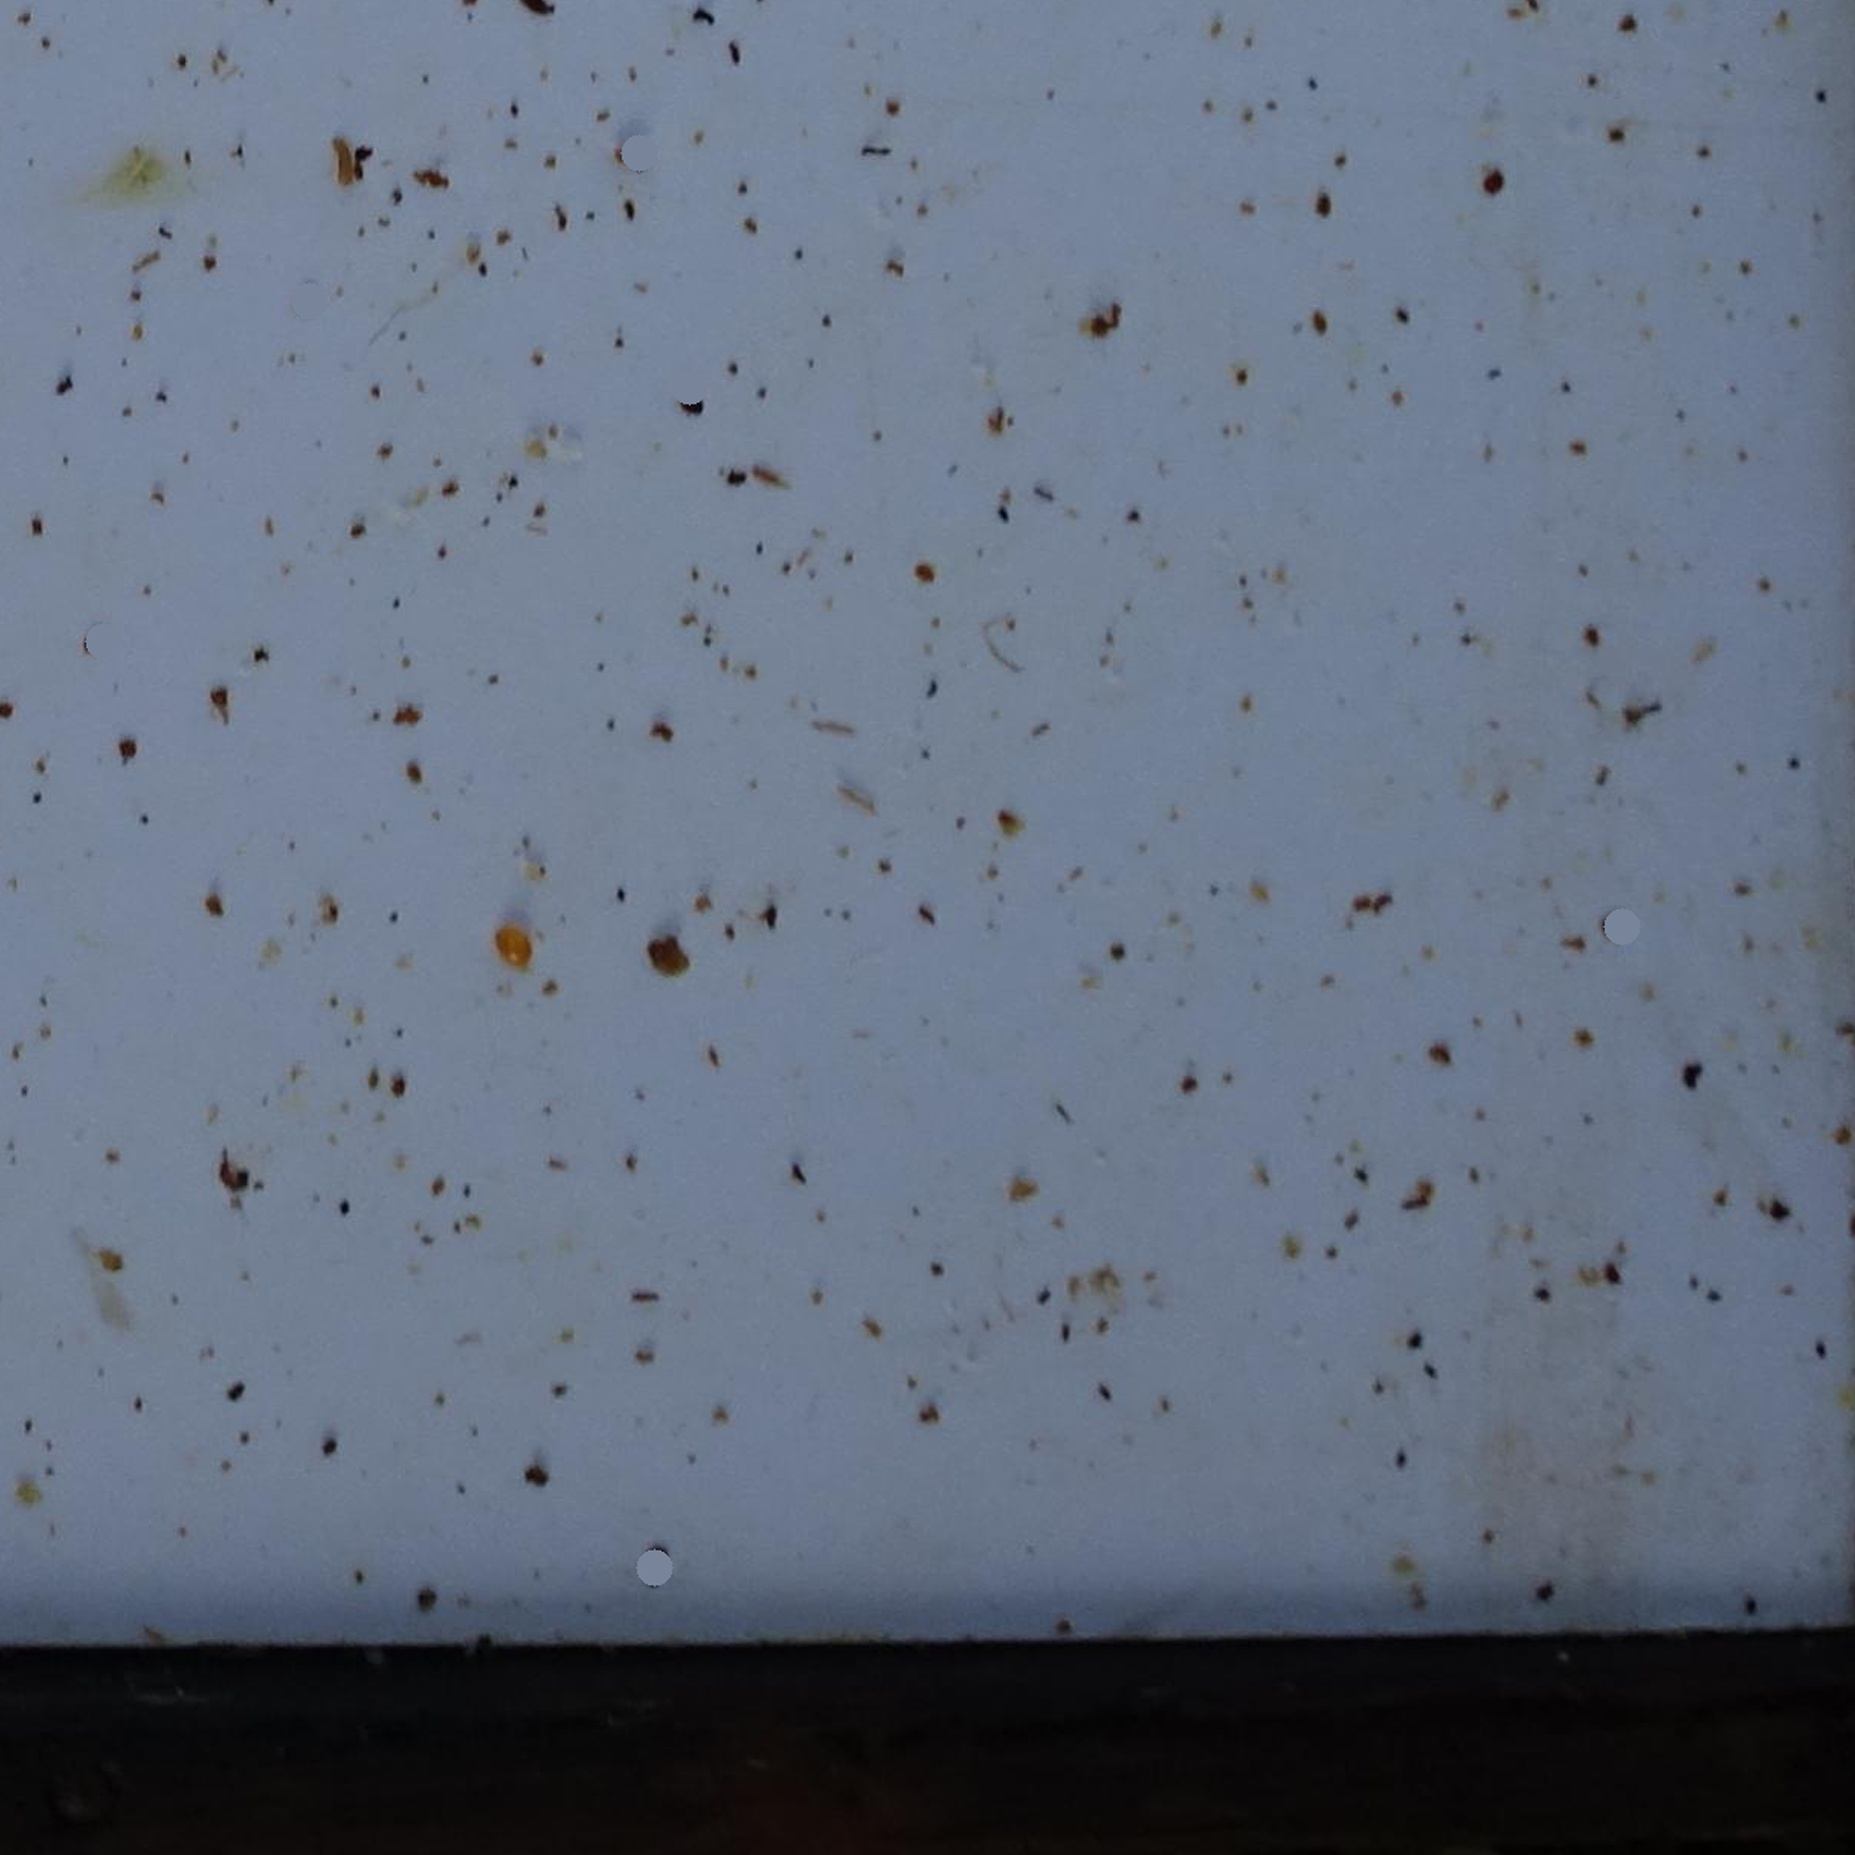Varroa: (679, 396, 712, 430)
